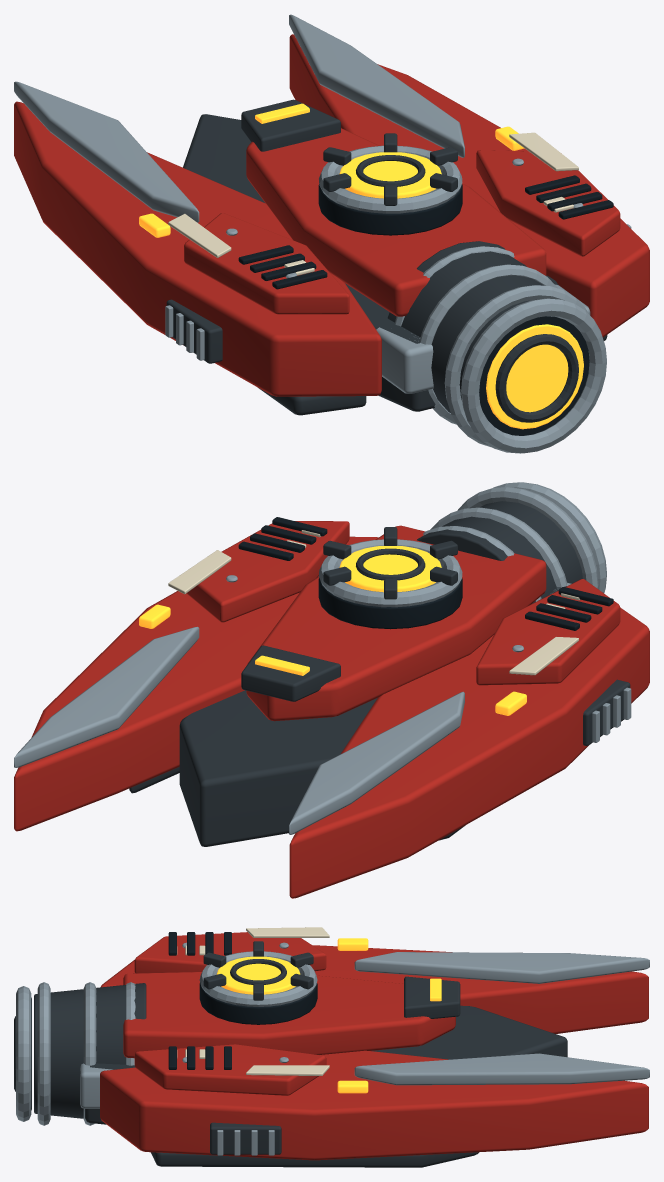
File: kamikaze_fenda_01.glb
The picture shows the model from 3 angles, top to bottom: view 1: azimuth 30°, elevation 25°; view 2: azimuth 150°, elevation 25°; view 3: azimuth 270°, elevation 25°; orthographic projection. The views are drawn at different scales.
Visible parts, largest first — view 1: Impact mandible -1, Dorsal red carapace, Impact mandible 1, Titanium ram edge -1, Titanium ram edge 1, Shoulder layered panel -1, Nozzle armored lip, Shoulder layered panel 1, Oversized main engine, Central armored keel, Engine emission, Engine cooling collar.002 (+14 smaller); view 2: Impact mandible -1, Impact mandible 1, Dorsal red carapace, Central armored keel, Titanium ram edge 1, Titanium ram edge -1, Shoulder layered panel 1, Shoulder layered panel -1, Oversized main engine, Forward sensor brow, Reactor recessed well, Reactor titanium collar (+8 smaller); view 3: Impact mandible 1, Dorsal red carapace, Impact mandible -1, Oversized main engine, Titanium ram edge 1, Titanium ram edge -1, Shoulder layered panel 1, Central armored keel, Shoulder layered panel -1, Underside skids 1, Reactor recessed well, Nozzle armored lip (+13 smaller).
Part boxes in pixels (x1,y1,x2,y2): Impact mandible -1: (14,101,381,396); Dorsal red carapace: (246,128,546,316); Impact mandible 1: (289,34,649,337); Titanium ram edge -1: (14,81,199,222); Titanium ram edge 1: (289,14,464,157); Shoulder layered panel -1: (184,213,349,314); Nozzle armored lip: (461,298,606,453); Shoulder layered panel 1: (476,150,620,256); Oversized main engine: (387,241,544,412); Central armored keel: (183,114,558,411); Engine emission: (486,324,583,429); Engine cooling collar.002: (444,285,588,447); Impact mandible -1: (289,607,649,898); Impact mandible 1: (14,536,378,831); Dorsal red carapace: (246,525,546,721); Central armored keel: (179,586,566,846); Titanium ram edge 1: (14,626,199,767); Titanium ram edge -1: (289,691,464,834); Shoulder layered panel 1: (186,521,349,622); Shoulder layered panel -1: (476,579,620,685); Oversized main engine: (417,501,582,603); Forward sensor brow: (241,645,340,701); Reactor recessed well: (318,578,462,629); Reactor titanium collar: (319,539,462,607); Impact mandible 1: (100,1050,648,1160); Dorsal red carapace: (123,972,455,1058); Impact mandible -1: (101,945,648,1033); Oversized main engine: (34,983,146,1118); Titanium ram edge 1: (354,1053,649,1085); Titanium ram edge -1: (354,952,649,983); Shoulder layered panel 1: (134,1044,326,1095); Central armored keel: (85,1005,567,1124); Shoulder layered panel -1: (134,932,326,973); Underside skids 1: (151,1152,478,1167); Reactor recessed well: (199,982,317,1024); Nozzle armored lip: (16,986,31,1121).
Size of the model in its own units: 1.6 by 0.66 by 2.49.
